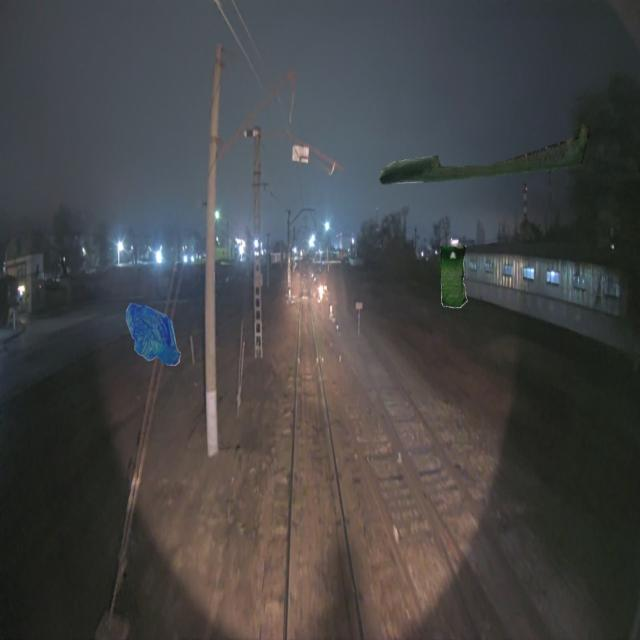floating object: (378, 120, 597, 184)
plastic bag: (126, 302, 180, 366), (440, 244, 468, 308)
